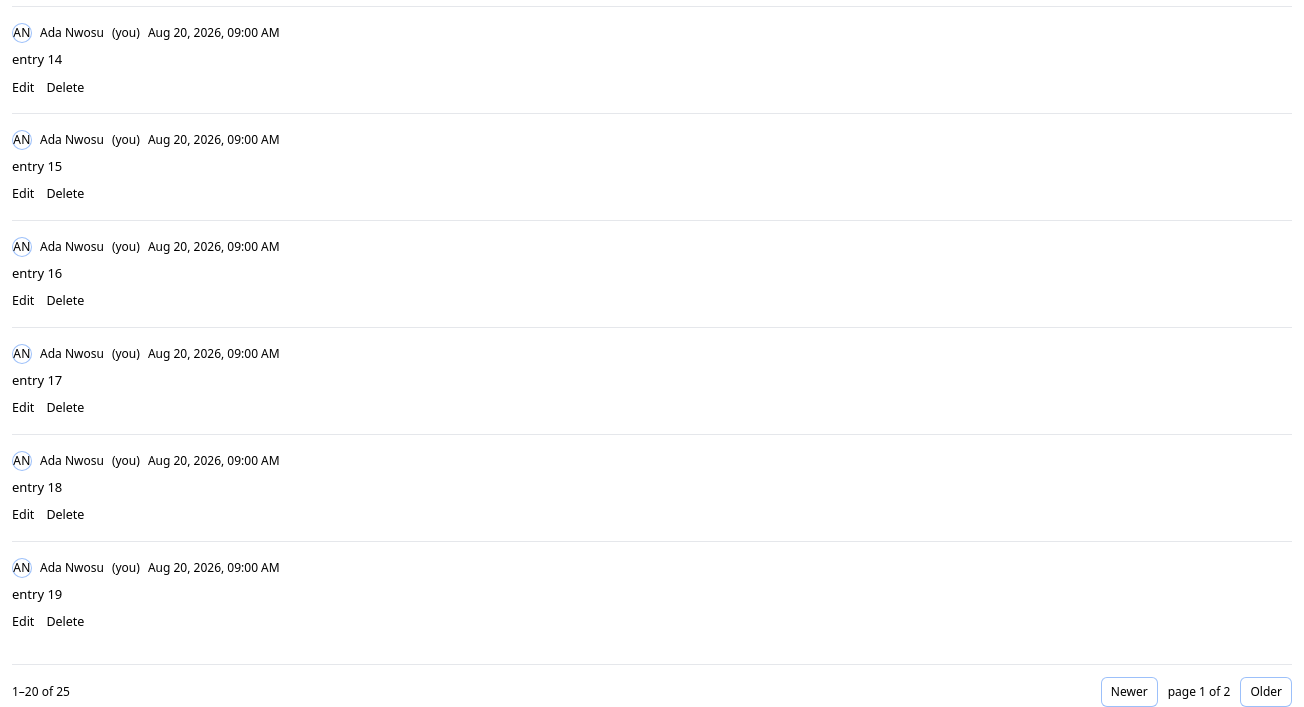
Scenario: /journal · the feed › pages against total, limit and offset
(page scrolled)
Step 1. Click the button with test id "page-older" → (1266, 692), box [1240,677,1292,706]
(page scrolled)
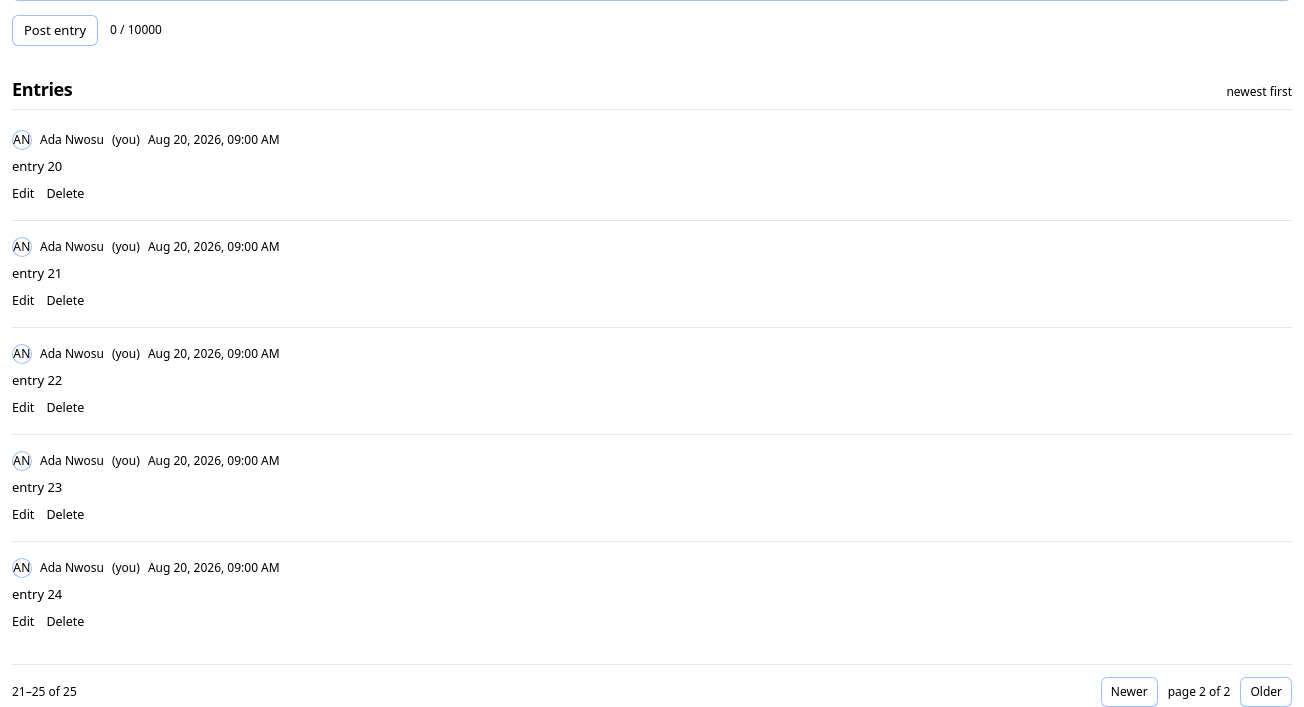
Now the number of list items with test id "entry" is 5, box [12,130,280,204]; [12,220,1292,327]; [12,327,1292,434]; [12,434,1292,541]; [12,541,1292,648]
